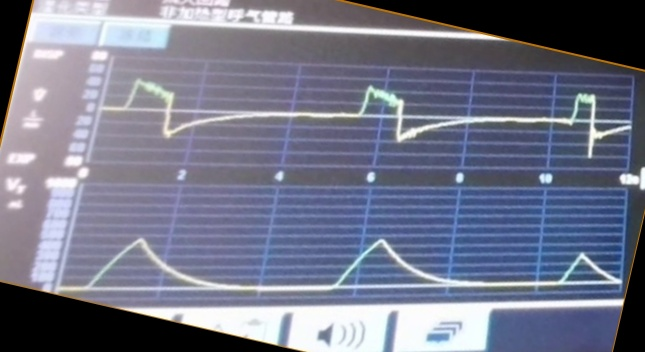Accumulation Flow: (107, 73, 628, 165)
Volume: (74, 204, 620, 300)
